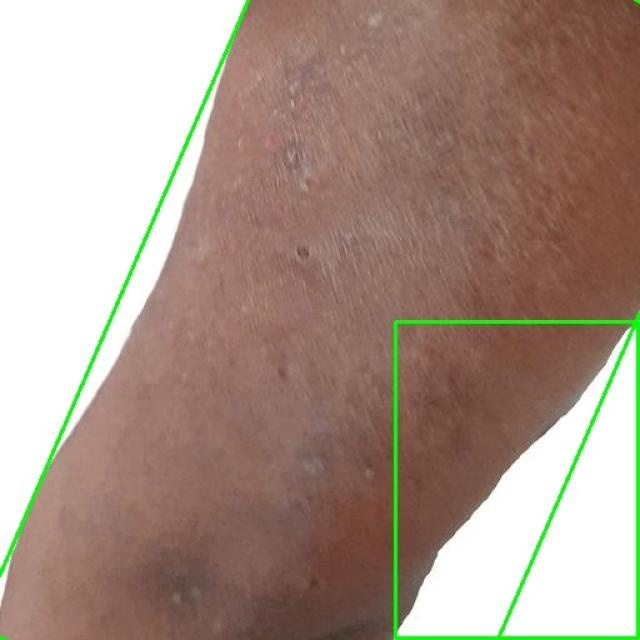Contact Dermatitis: (0, 0, 640, 640), (396, 322, 639, 639)
